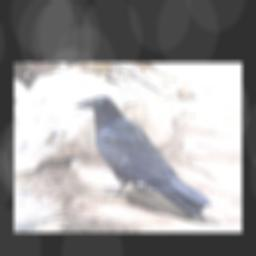Crow: (74, 94, 210, 222)
